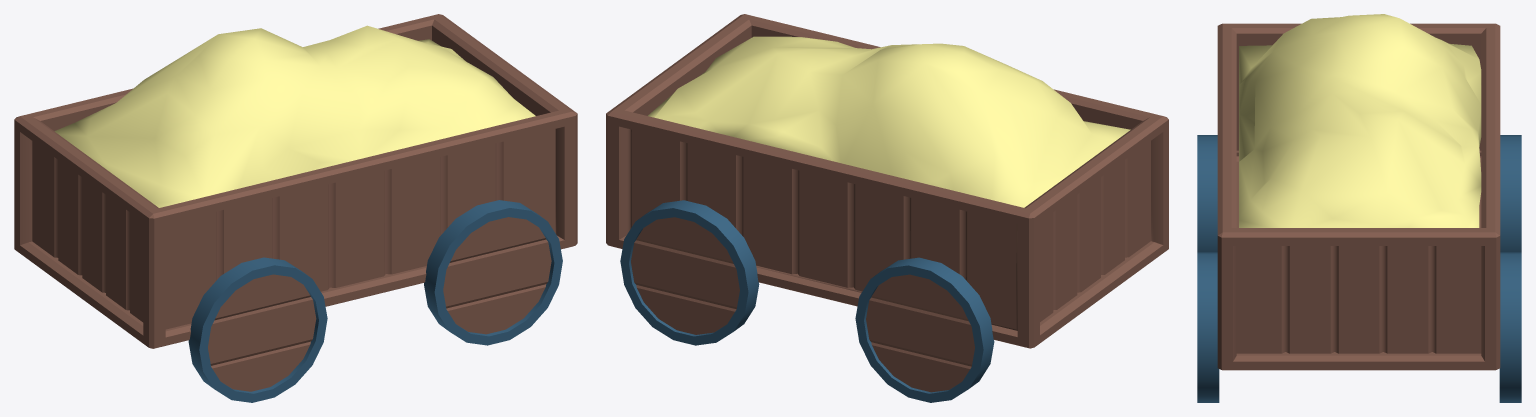
The model's file is wagon.FBX.
3 renders of one model, left to right at view 1: azimuth 30°, elevation 25°; view 2: azimuth 150°, elevation 25°; view 3: azimuth 270°, elevation 25°, orthographic. The views are drawn at different scales.
Visible parts, largest first — view 1: wagon_LOD0; view 2: wagon_LOD0; view 3: wagon_LOD0.
Part boxes in pixels (box(x1,y1,x2,y2)): wagon_LOD0: box(14, 14, 577, 402); wagon_LOD0: box(606, 14, 1168, 402); wagon_LOD0: box(1197, 14, 1521, 402).
Size of what is drawn, in the model's own units: 536 by 338 by 344.
